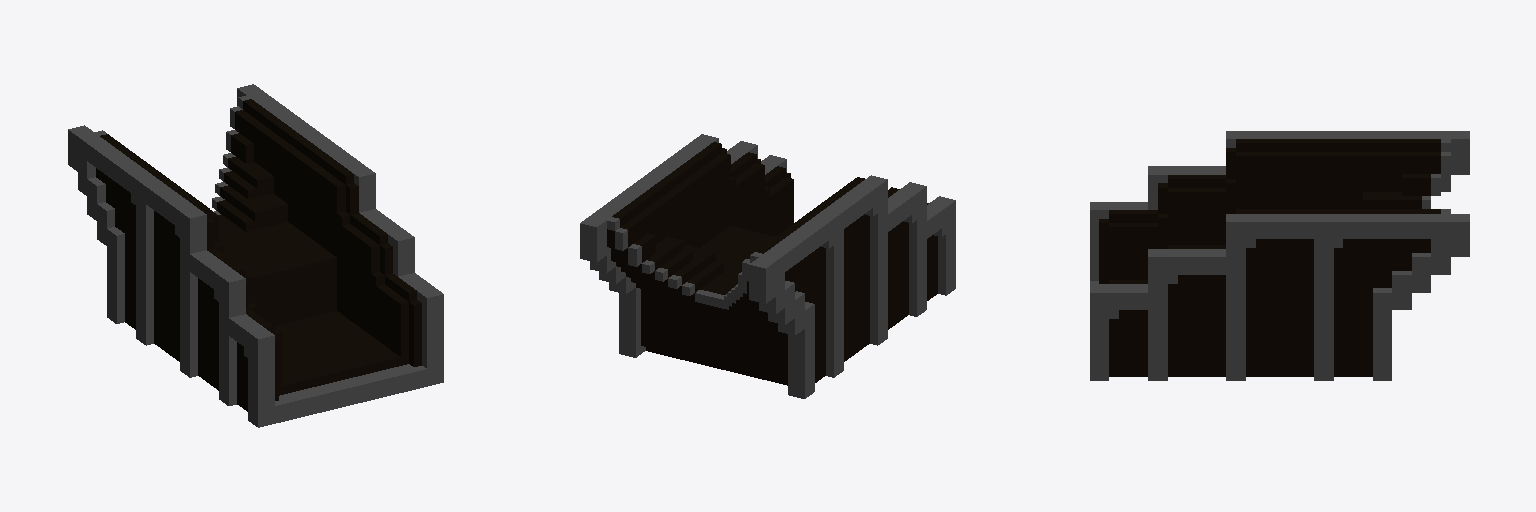
3 renders of one model, left to right at view 1: azimuth 30°, elevation 25°; view 2: azimuth 150°, elevation 25°; view 3: azimuth 270°, elevation 25°, orthographic.
Parts seen in each view (by area): view 1: CannonHolder; view 2: CannonHolder; view 3: CannonHolder.
Boxes of the visible parts, x1,y1,x2,y2 form: CannonHolder: [68, 84, 443, 427]; CannonHolder: [580, 134, 955, 398]; CannonHolder: [1090, 131, 1469, 380].
Bounding box in the file's own units: 22 × 18 × 39.
1 materials, 1 textured.